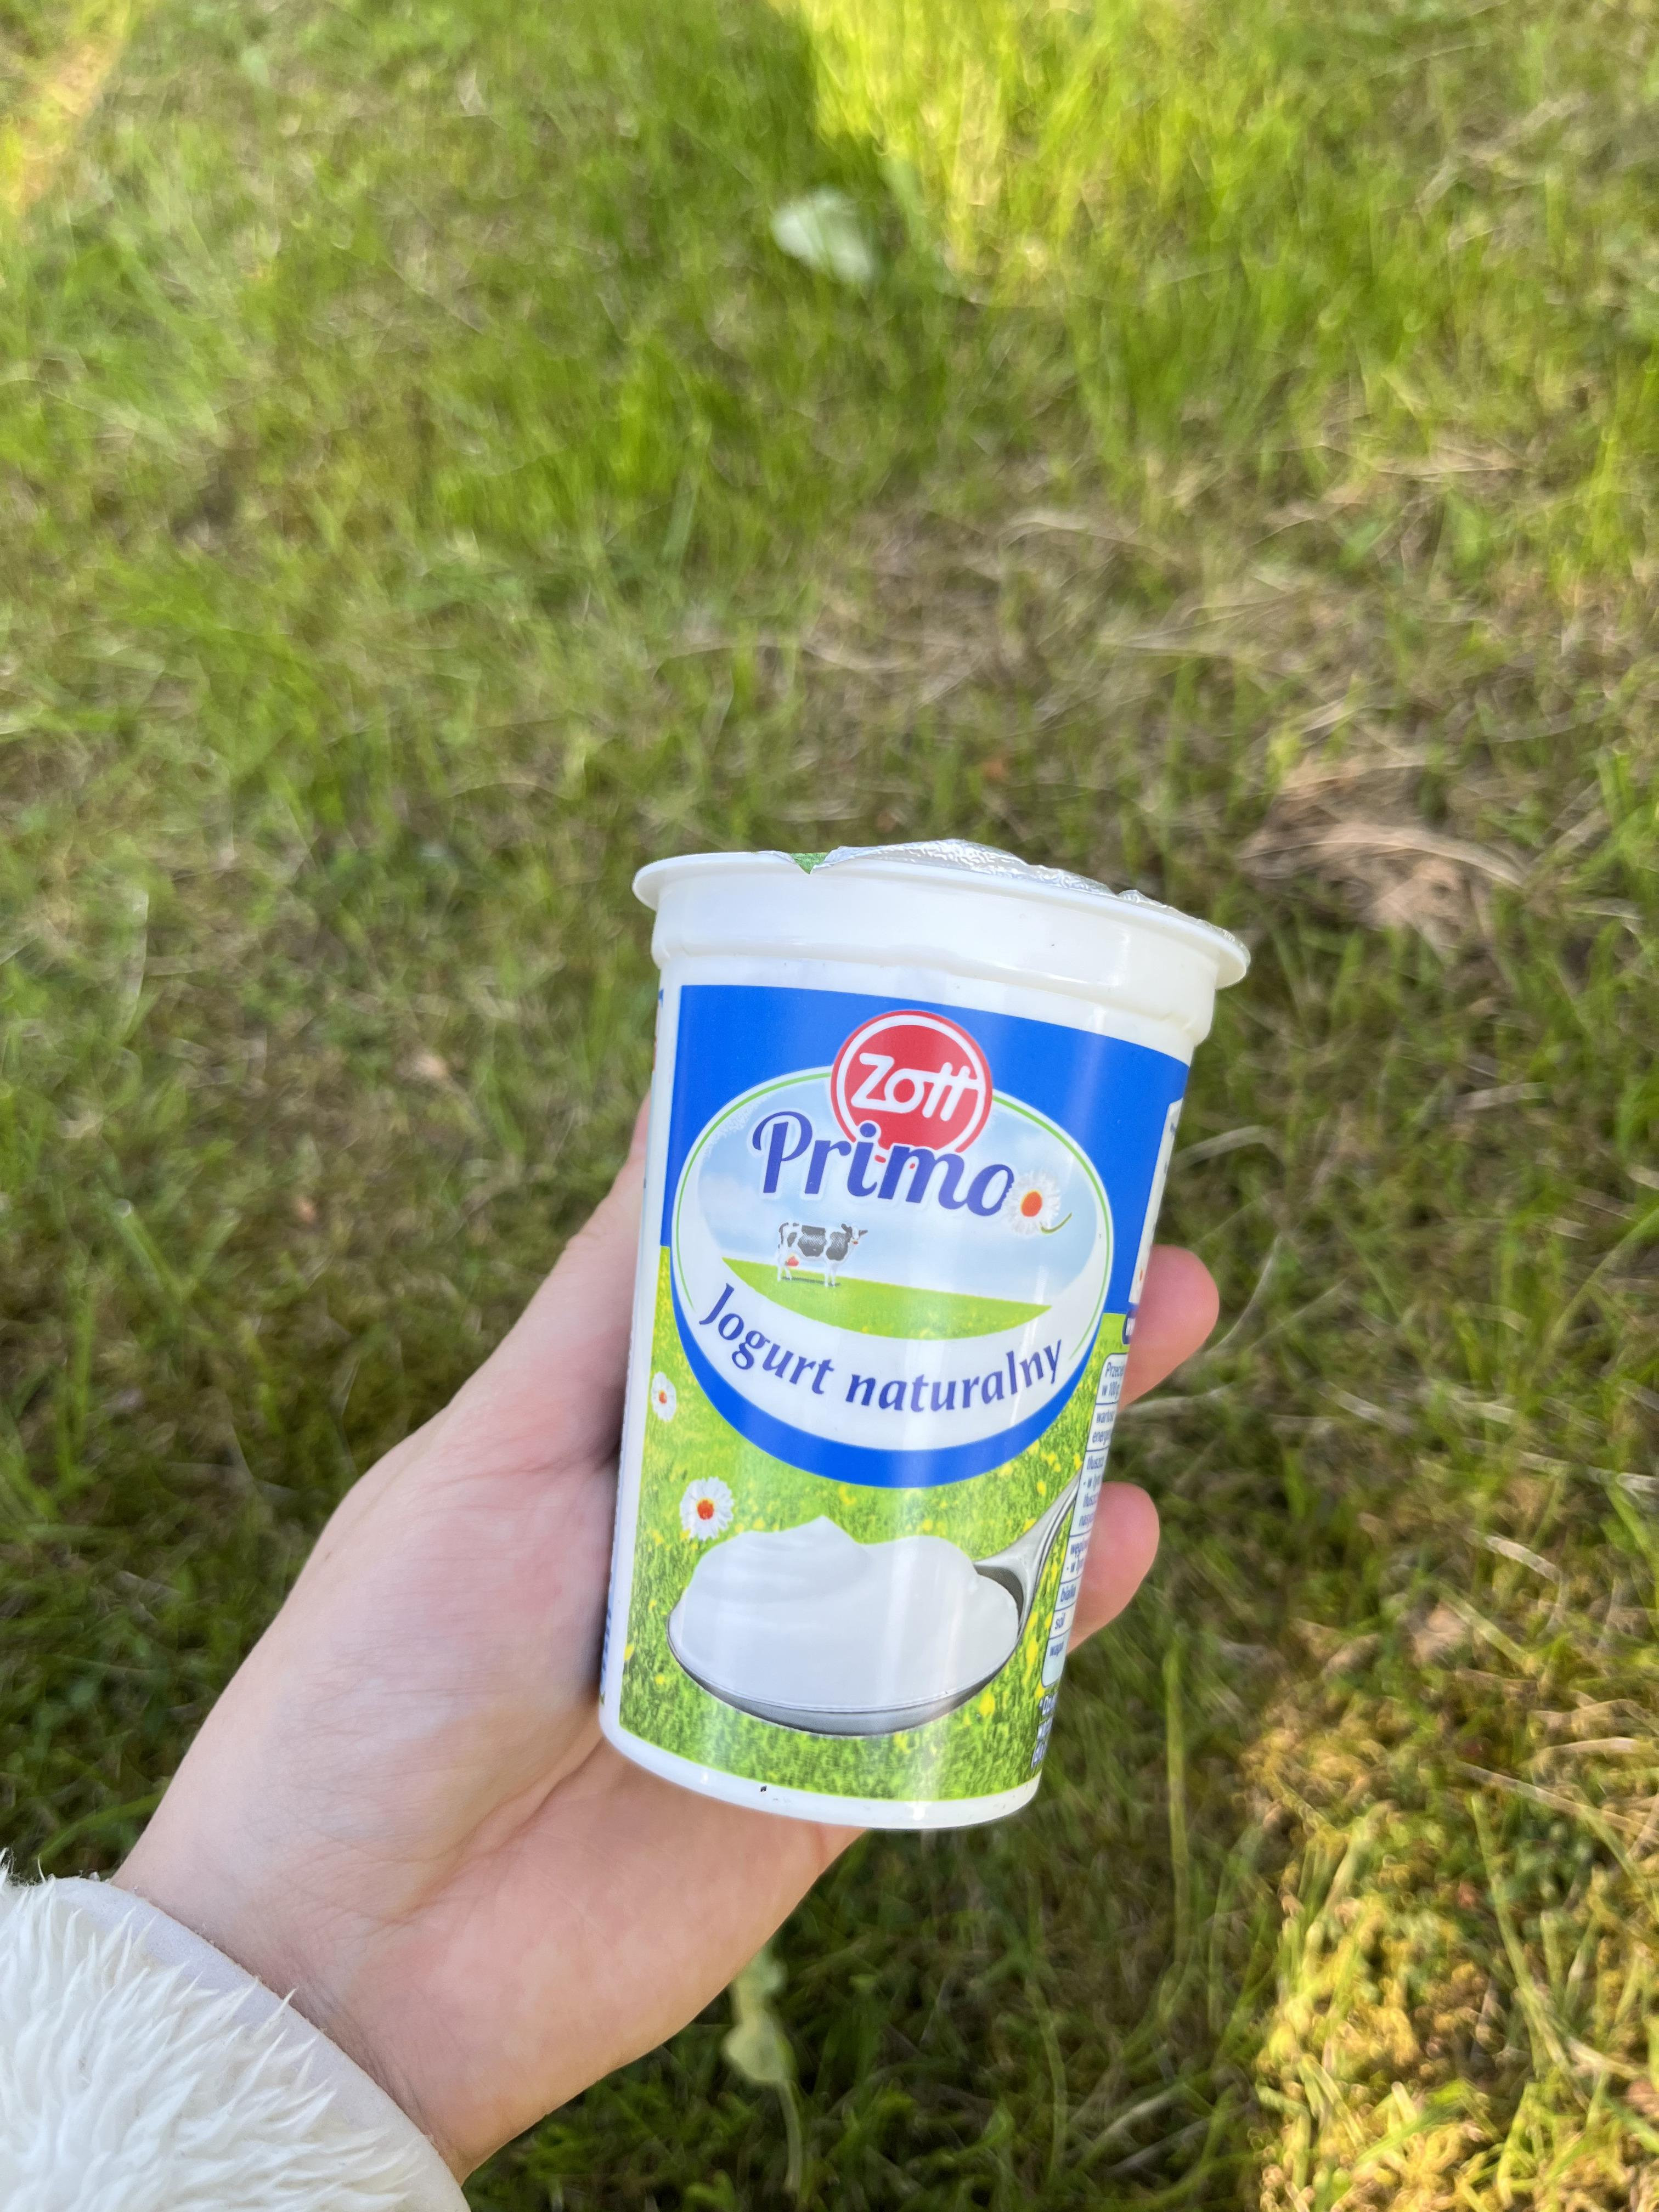Yogurt: (653, 867, 1093, 1810)
